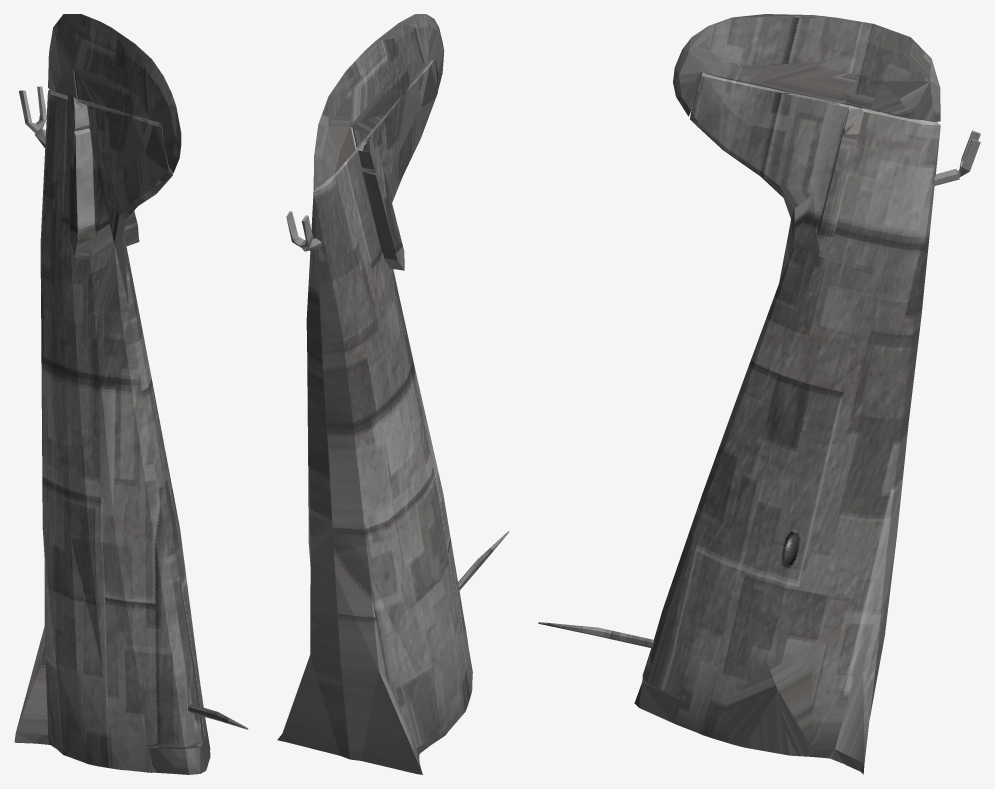
Rendered from catwalk2.obj.
3 views of the same model, side by side, from view 1: azimuth 30°, elevation 25°; view 2: azimuth 150°, elevation 25°; view 3: azimuth 270°, elevation 25° (orthographic). The views are drawn at different scales.
Parts seen in each view (by area): view 1: Object.1; view 2: Object.1; view 3: Object.1.
Boxes of the visible parts, box(x1,y1,x2,y2) form: Object.1: box(14, 14, 248, 774); Object.1: box(277, 14, 509, 774); Object.1: box(538, 14, 980, 774).
Bounding box in the file's own units: 0.2003 × 0.9233 × 0.5116.
1 material, 1 textured.
